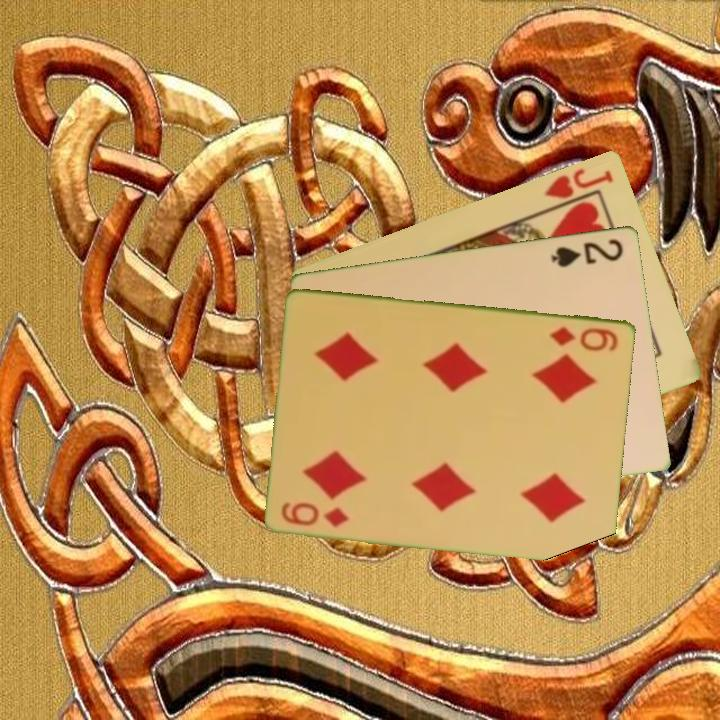2s: (548, 234, 627, 270)
6d: (278, 498, 353, 530), (547, 322, 621, 354)
Jh: (539, 164, 617, 213)
